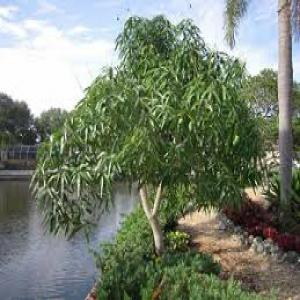Tree: (27, 11, 264, 266)
